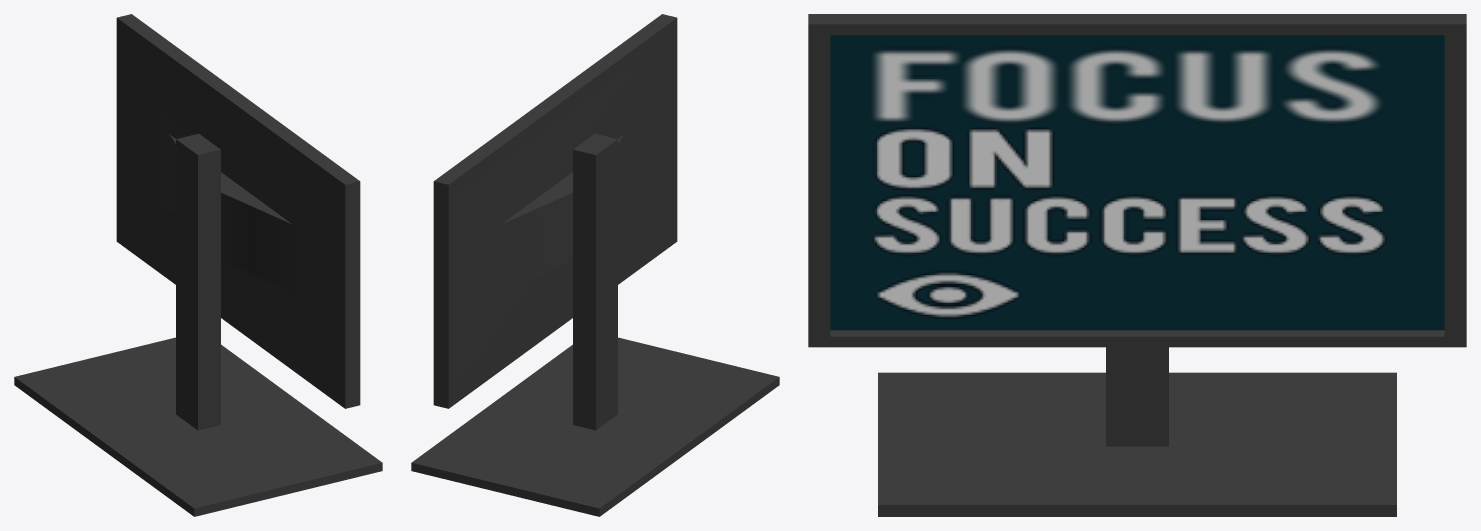
The model's file is Monitor.fbx.
3 renders of one model, left to right at view 1: azimuth 30°, elevation 25°; view 2: azimuth 150°, elevation 25°; view 3: azimuth 270°, elevation 25°, orthographic. The views are drawn at different scales.
Parts seen in each view (by area): view 1: pCube1; view 2: pCube1; view 3: pCube1.
Boxes of the visible parts, x1,y1,x2,y2 form: pCube1: [14, 14, 382, 516]; pCube1: [411, 14, 779, 516]; pCube1: [808, 14, 1466, 516].
Size of the model in its own units: 4.63 by 7.5 by 9.74.
